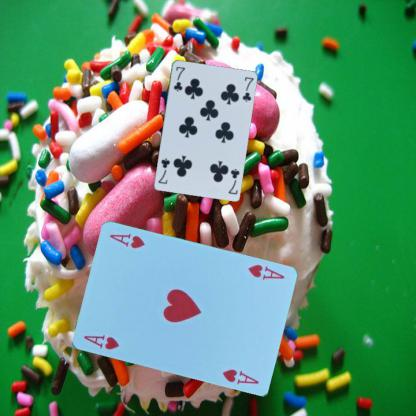7c: (171, 64, 186, 92), (226, 166, 240, 195)
Ah: (80, 332, 120, 352), (244, 262, 286, 281)
